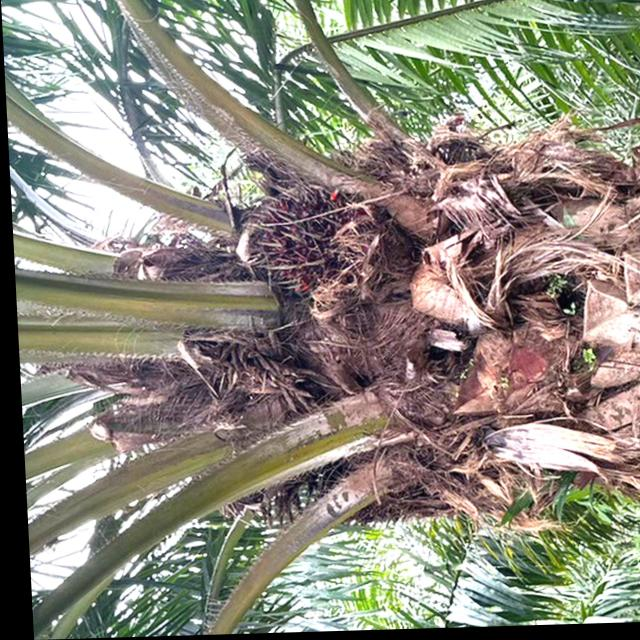ripe: (243, 184, 346, 302)
